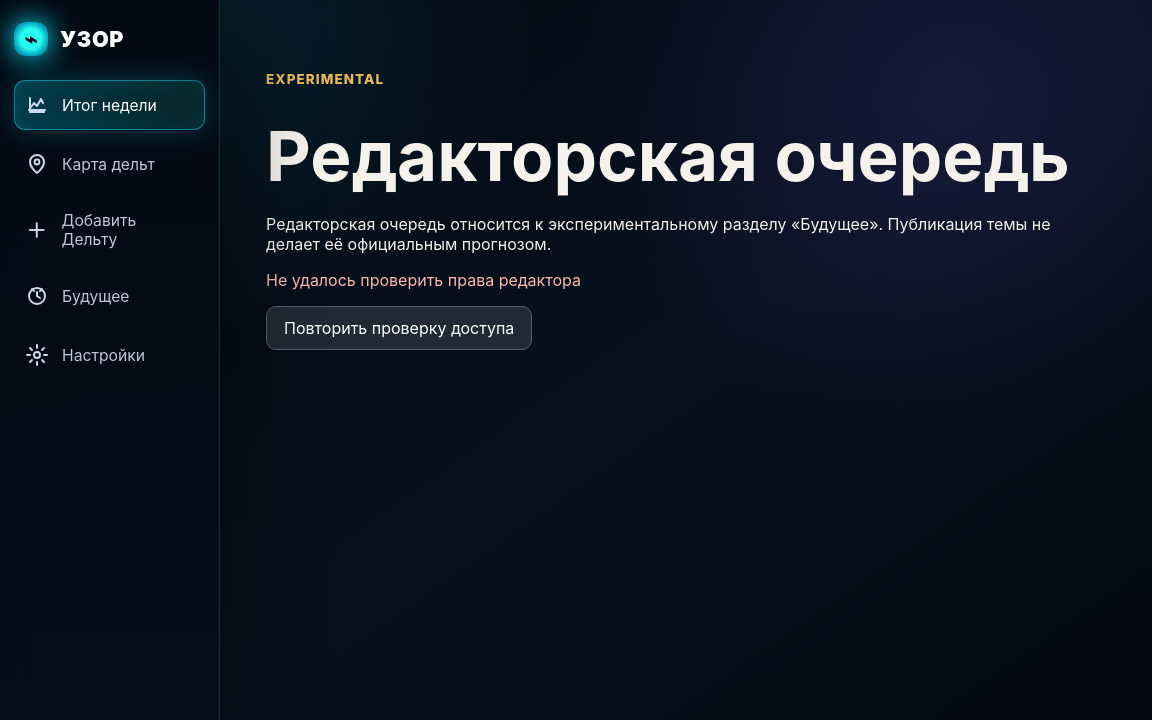
Test: ForecastQuestionAdminPage access semantics › retries a technical access failure and loads the authorized queue
Check: the text "Не удалось проверить права редактора" is shown, box [266,270,581,290]
Click the button "Повторить проверку доступа": (399, 328) [266,306,532,350]
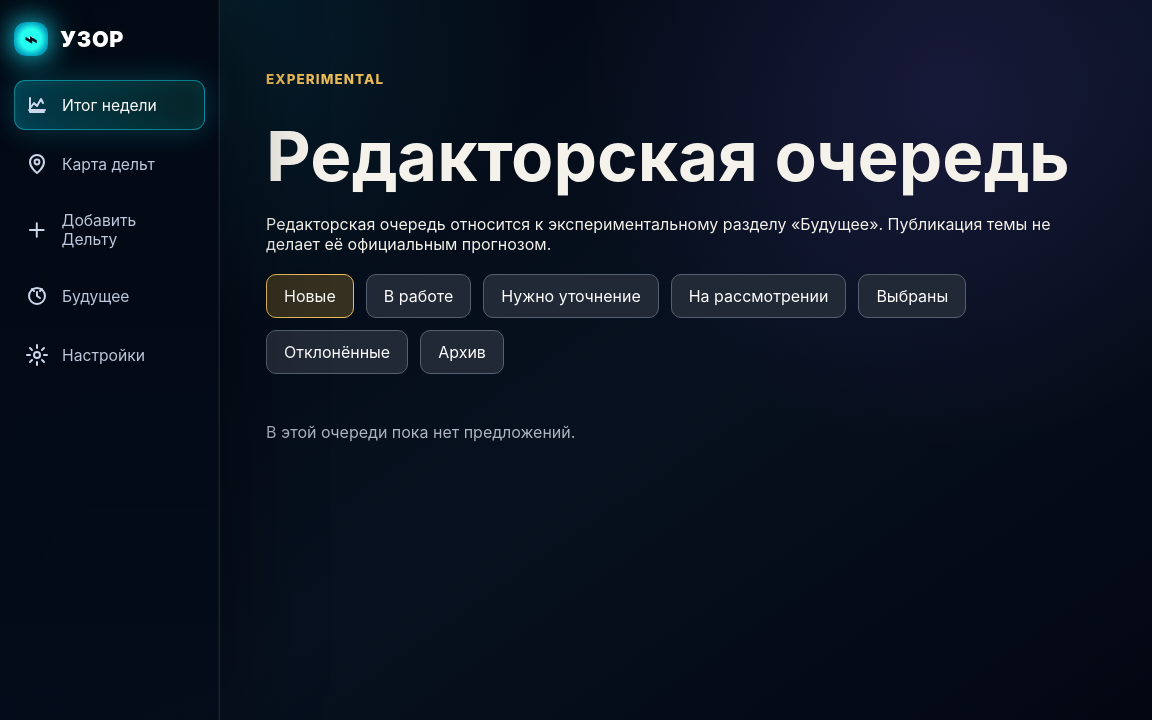
Check: the text "В этой очереди пока нет предложений." is shown, box [266,422,575,442]
